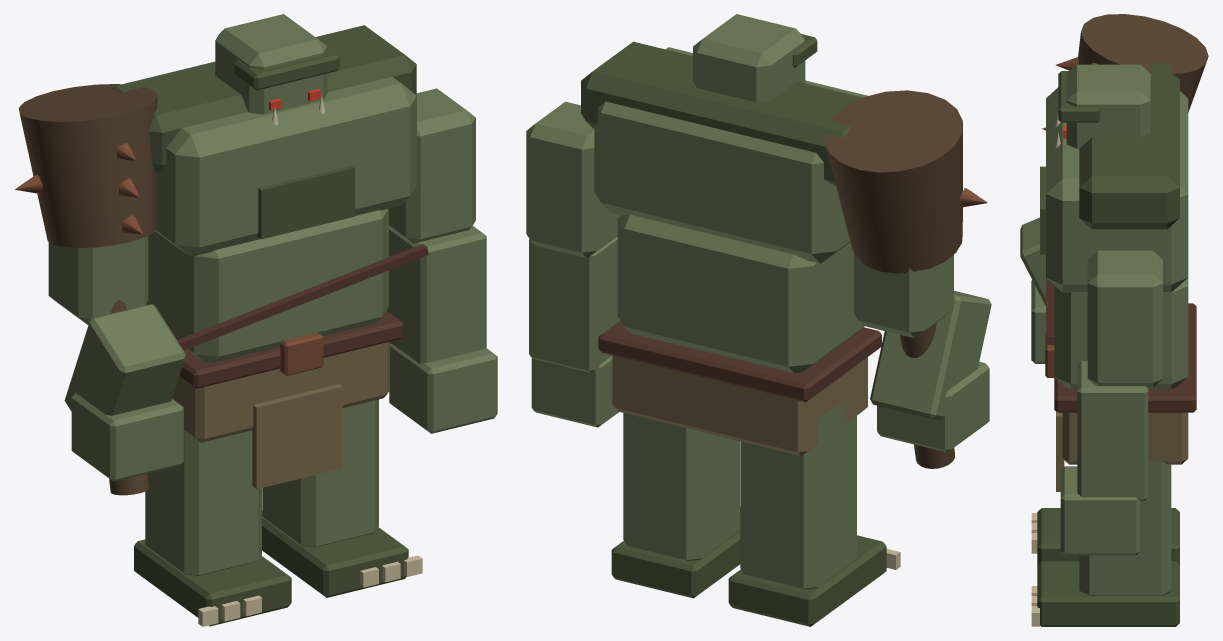
3 views of the same model, side by side, from view 1: azimuth 30°, elevation 25°; view 2: azimuth 150°, elevation 25°; view 3: azimuth 270°, elevation 25° (orthographic). The views are drawn at different scales.
Parts seen in each view (by area): view 1: survival_behemoth; view 2: survival_behemoth; view 3: survival_behemoth.
Boxes of the visible parts, x1=… form: survival_behemoth: x1=15, y1=14, x2=497, y2=626; survival_behemoth: x1=526, y1=14, x2=991, y2=626; survival_behemoth: x1=1020, y1=14, x2=1208, y2=626.
Size of the model in its own units: 5.78 by 6.65 by 2.25.
